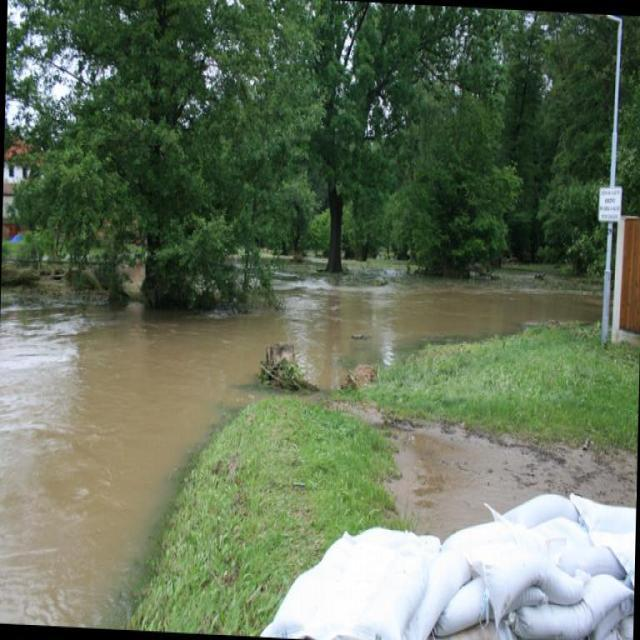flood: (0, 264, 600, 513)
